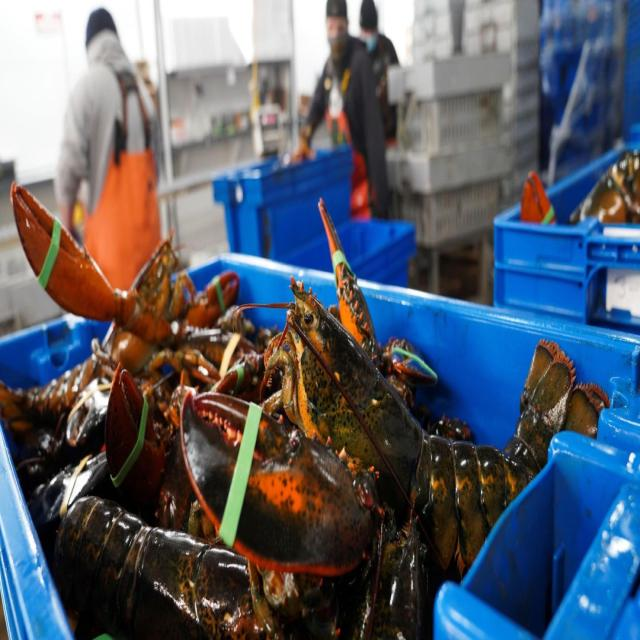Lobster: (180, 280, 605, 575), (11, 184, 230, 364), (54, 495, 281, 640), (319, 198, 438, 408), (372, 520, 429, 640), (231, 338, 254, 362)
